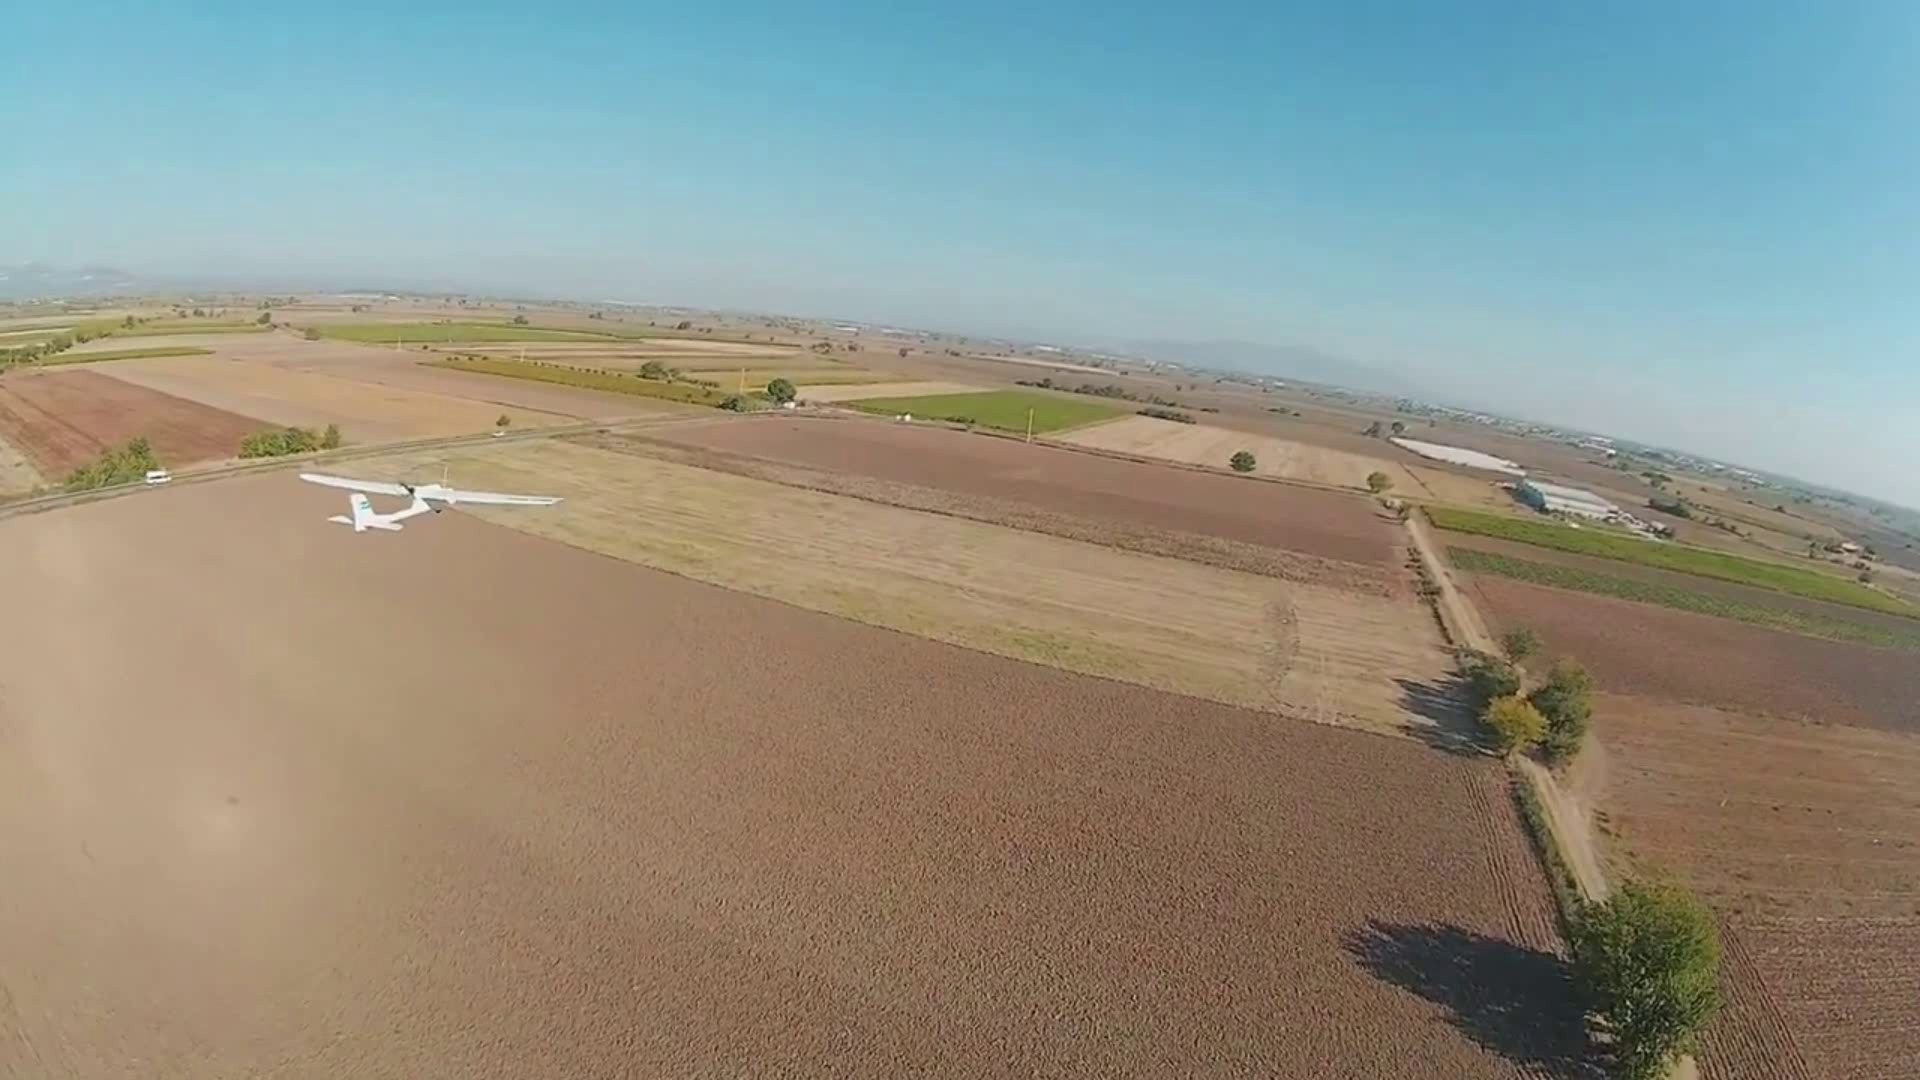airplane: (299, 470, 562, 534)
